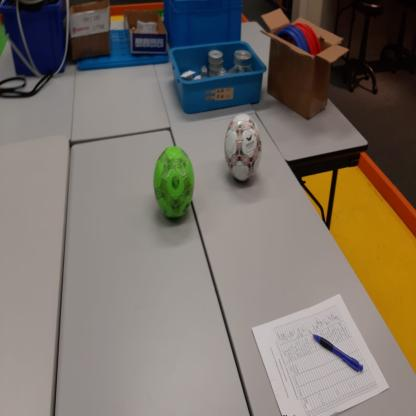ball: (154, 144, 195, 221), (225, 114, 262, 183)
